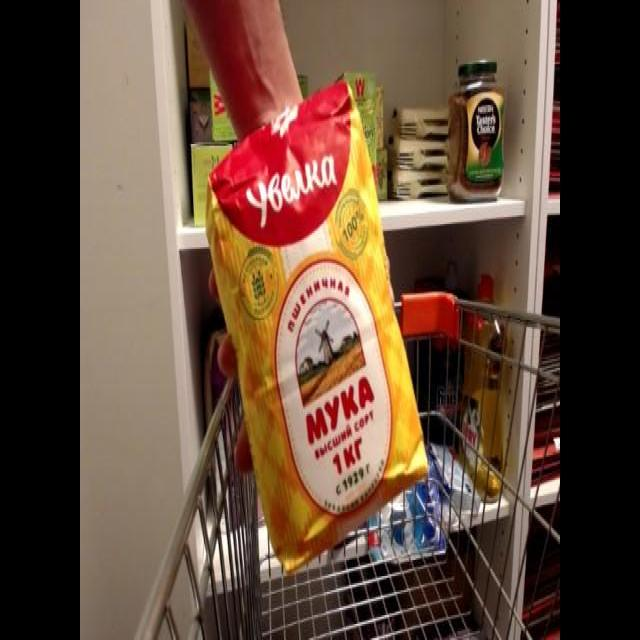Flour: (202, 65, 430, 573)
